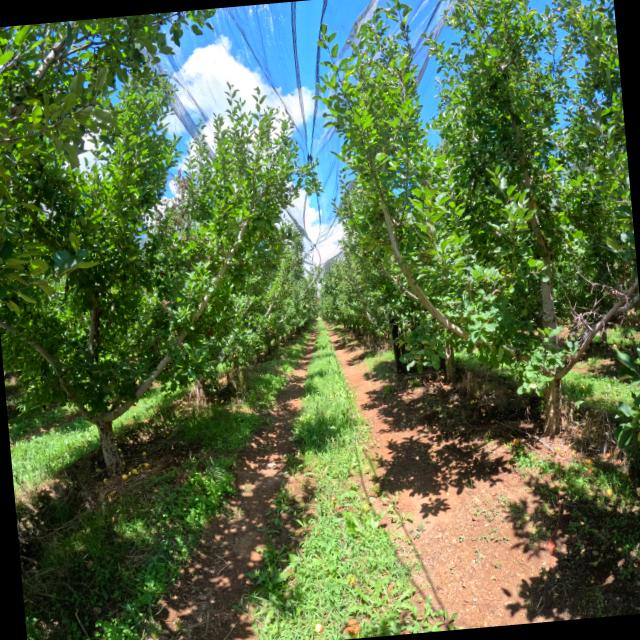-FireBlight-: (174, 168, 193, 198), (161, 297, 173, 310), (171, 216, 182, 226), (171, 202, 179, 208), (179, 208, 185, 216), (174, 197, 182, 202)
